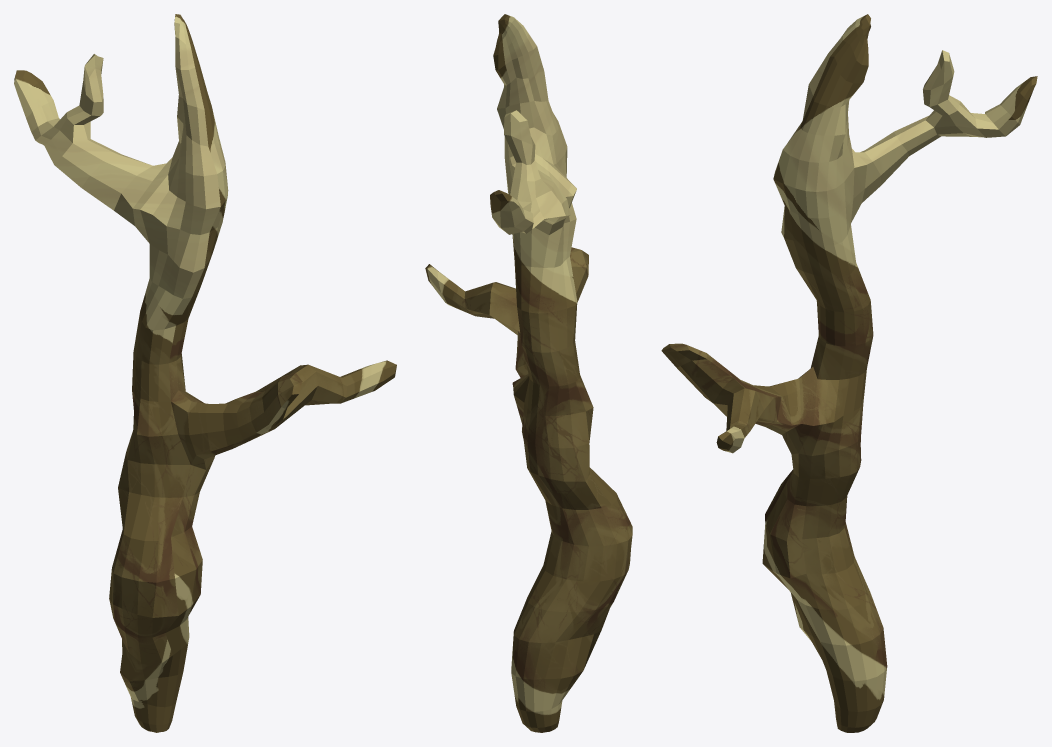
The model's file is branch2 (1).fbx.
3 views of the same model, side by side, from view 1: azimuth 30°, elevation 25°; view 2: azimuth 150°, elevation 25°; view 3: azimuth 270°, elevation 25° (orthographic). The views are drawn at different scales.
Parts seen in each view (by area): view 1: branch2; view 2: branch2; view 3: branch2.
Part boxes in pixels (x1,y1,x2,y2): branch2: (14,14,396,732); branch2: (425,14,632,732); branch2: (661,14,1037,732).
Bounding box in the file's own units: 363 × 1008 × 472.
Materials: 1 (1 with a texture image).
